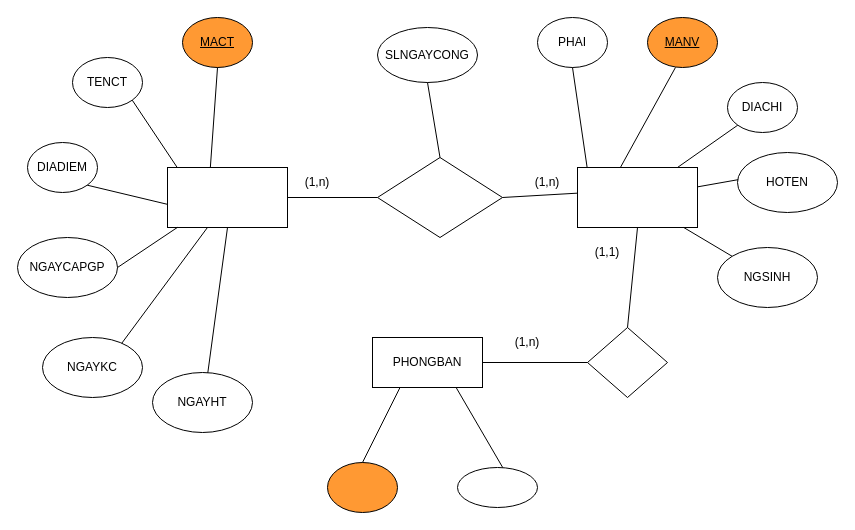
This 855x530 diagram has some shape labels left out. The centre of each missing label's shape, as x and y in pixels:
"CONGTRINH" goes at point 227,197.
"LAMVIEC" goes at point 627,362.
"MAPB" goes at point 362,487.
"NHANVIEN" goes at point 637,197.
"TENPB" goes at point 497,487.
"THAMGIA" goes at point 439,197.
